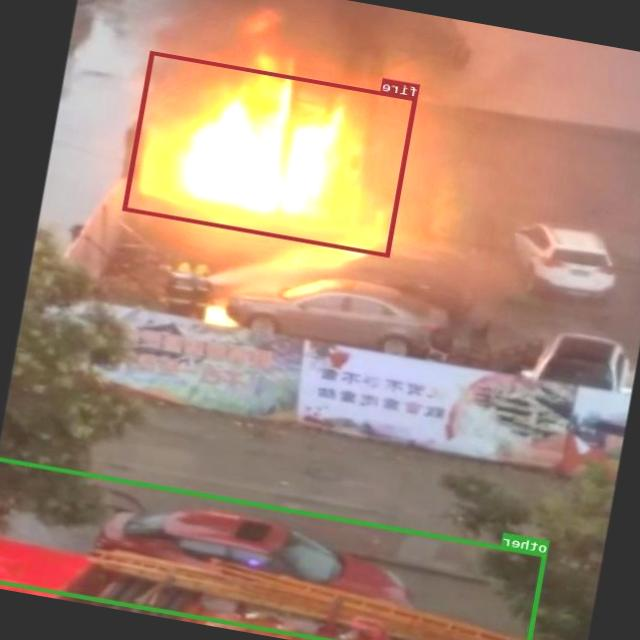fire: (123, 50, 419, 256)
